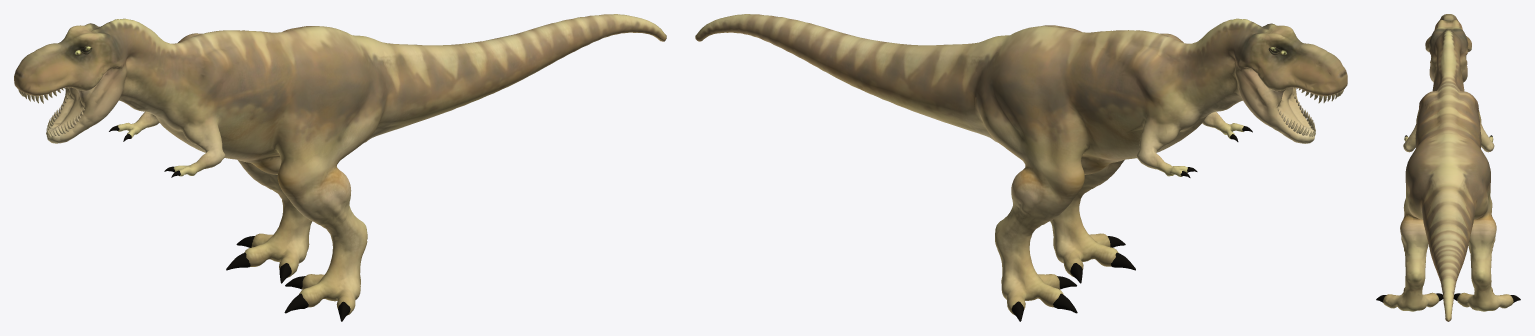
The model's file is dinosaur.obj.
3 renders of one model, left to right at view 1: azimuth 30°, elevation 25°; view 2: azimuth 150°, elevation 25°; view 3: azimuth 270°, elevation 25°, orthographic. The views are drawn at different scales.
Visible parts, largest first — view 1: META, UNAS, DIENTS; view 2: META, UNAS, DIENTS; view 3: META, UNAS.
Boxes of the visible parts, left/top/right/bottom form: META: left=14, top=14, right=666, bottom=315; UNAS: left=109, top=125, right=350, bottom=321; DIENTS: left=18, top=87, right=85, bottom=137; META: left=695, top=14, right=1347, bottom=314; UNAS: left=1011, top=126, right=1252, bottom=321; DIENTS: left=1276, top=87, right=1343, bottom=136; META: left=1383, top=14, right=1513, bottom=321; UNAS: left=1376, top=135, right=1520, bottom=302.
Bounding box in the file's own units: 547 × 249 × 153.
